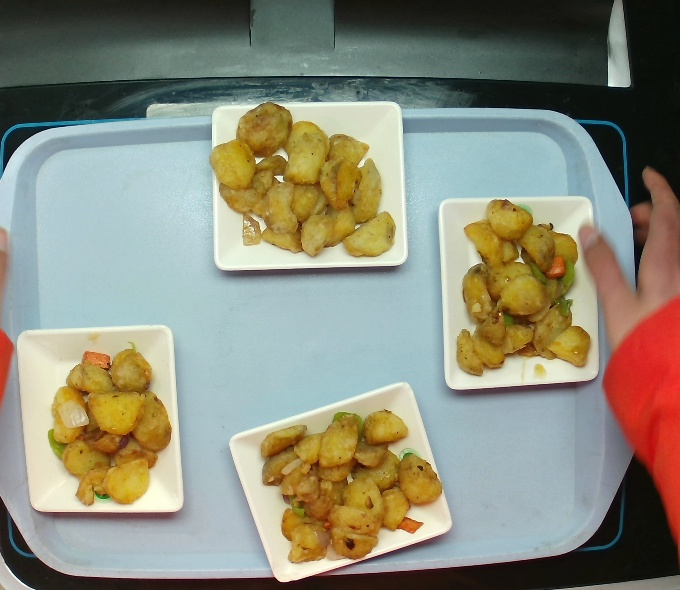wcq-TuDouZai: (210, 88, 398, 267), (258, 401, 440, 572), (455, 197, 598, 386), (51, 340, 167, 513)
